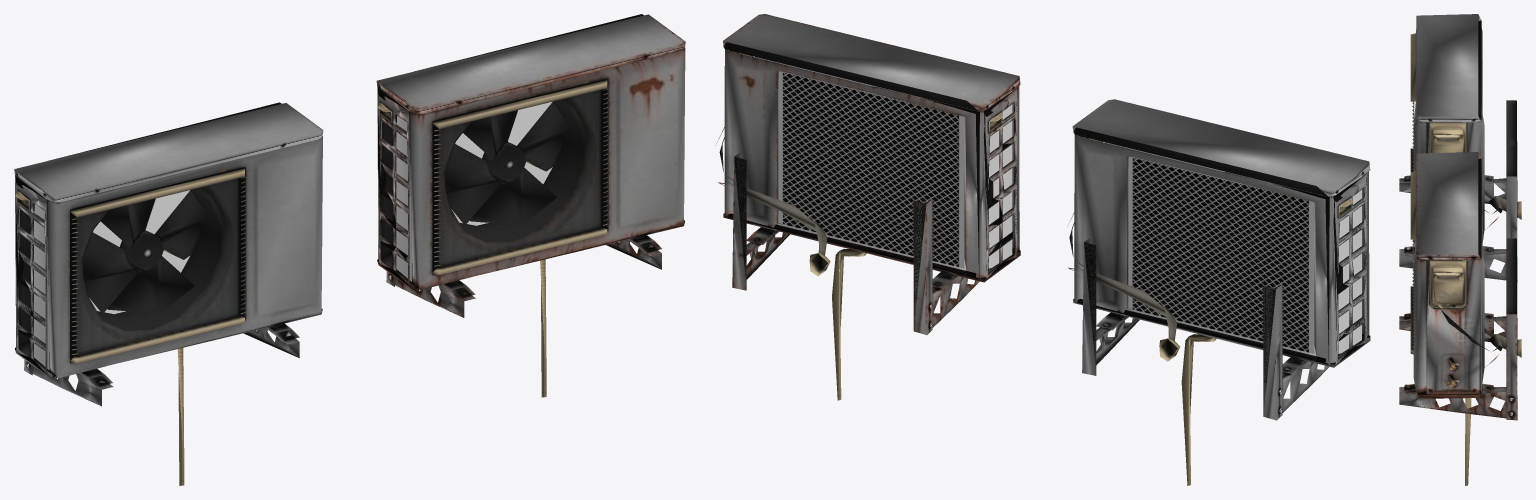
The model's file is exterior_aircon_unit.glb.
3 renders of one model, left to right at view 1: azimuth 30°, elevation 25°; view 2: azimuth 150°, elevation 25°; view 3: azimuth 270°, elevation 25°, orthographic. The views are drawn at different scales.
Visible parts, largest first — view 1: exterior_aircon_unit_rusted, exterior_aircon_unit; view 2: exterior_aircon_unit_rusted, exterior_aircon_unit; view 3: exterior_aircon_unit_rusted, exterior_aircon_unit.
Boxes of the visible parts, x1,y1,x2,y2 form: exterior_aircon_unit_rusted: (376, 14, 685, 397); exterior_aircon_unit: (14, 102, 323, 485); exterior_aircon_unit_rusted: (715, 14, 1020, 400); exterior_aircon_unit: (1068, 99, 1370, 485); exterior_aircon_unit_rusted: (1399, 152, 1521, 485); exterior_aircon_unit: (1399, 14, 1521, 281).
Size of the model in its own units: 1.8 by 0.9228 by 0.3742.
4 materials, 4 textured.
